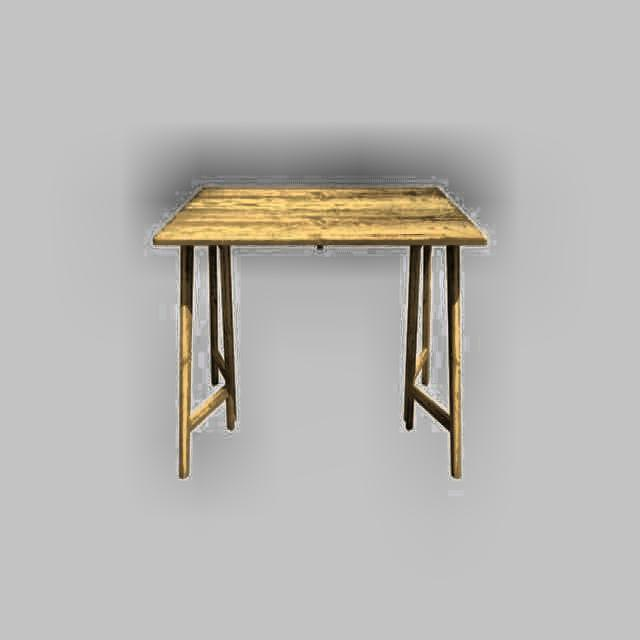mesa: (152, 184, 488, 481)
